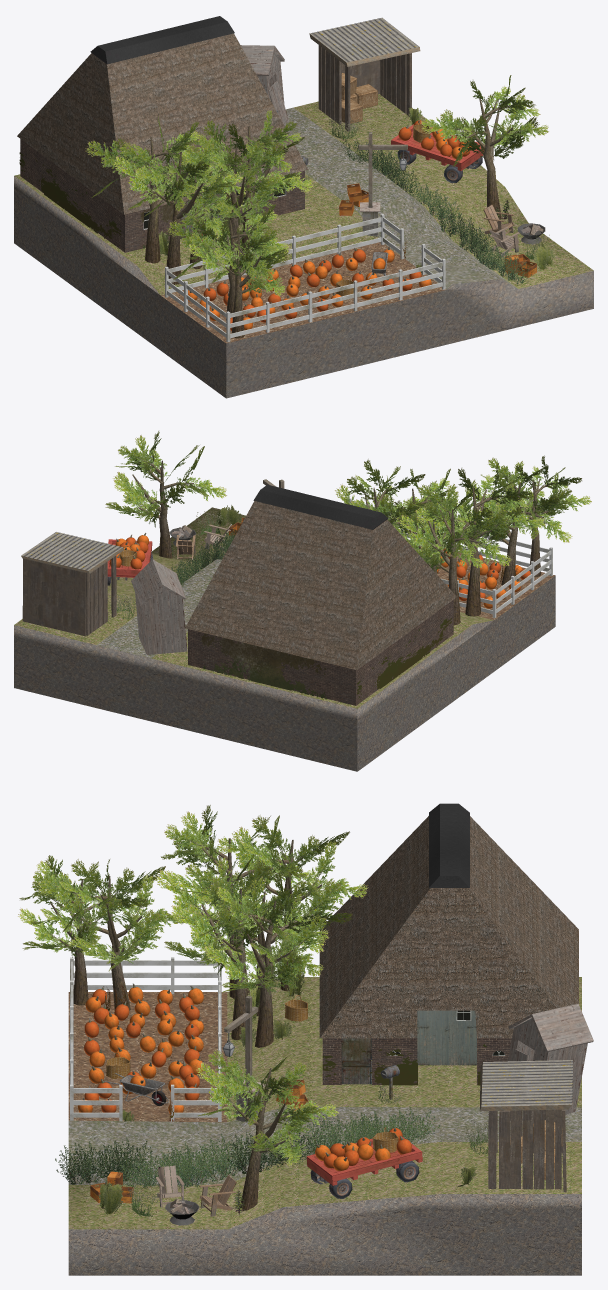
File: dae-diorama-retake-small-farm.fbx
3 renders of one model, top to bottom at view 1: azimuth 30°, elevation 25°; view 2: azimuth 150°, elevation 25°; view 3: azimuth 270°, elevation 25°, orthographic. The views are drawn at different scales.
Parts seen in each view (by area): view 1: Groundplane_Sq_15_side_GF_0, MAINHOUSE_roof_0, TREEWOOD2_grass3_0, Groundplane_Sq_15_Grass_GF_0, Groundplane_Sq_15_Path_GF_0, FENCE_Fence_0, TREEWOOD2_tree_wood_2_0, Groundplane_Sq_15_earth_GF_0, MAINHOUSE_walls_0, LEAVES2_leaves2_0, SHELTER_tree_wood_6_0, MAINHOUSE_rooftop_0 (+15 smaller); view 2: Groundplane_Sq_15_side_GF_0, MAINHOUSE_roof_0, TREEWOOD2_grass3_0, MAINHOUSE_walls_0, Groundplane_Sq_15_Grass_GF_0, TREEWOOD2_tree_wood_2_0, SHELTER_t_woodTile3_0, HOUSE_DECAL2_house_decal2_0, SHED_shed_walls_door_0, MAINHOUSE_rooftop_0, SHELTER_small_house_roof_0, FENCE_Fence_0 (+10 smaller); view 3: MAINHOUSE_roof_0, TREEWOOD2_grass3_0, Groundplane_Sq_15_side_GF_0, Groundplane_Sq_15_Grass_GF_0, Groundplane_Sq_15_Path_GF_0, Groundplane_Sq_15_earth_GF_0, LEAVES2_leaves2_0, TREEWOOD2_tree_wood_2_0, SHELTER_tree_wood_6_0, PUMPKIN1_T_Pumpkin_Unique_0, FENCE_Fence_0, MAINHOUSE_lambert16_0 (+16 smaller).
Part boxes in pixels (x1,y1,x2,y2): Groundplane_Sq_15_side_GF_0: (14, 176, 593, 398); MAINHOUSE_roof_0: (17, 33, 308, 214); TREEWOOD2_grass3_0: (85, 75, 548, 296); Groundplane_Sq_15_Grass_GF_0: (14, 94, 593, 295); Groundplane_Sq_15_Path_GF_0: (286, 107, 516, 289); FENCE_Fence_0: (165, 214, 445, 342); TREEWOOD2_tree_wood_2_0: (121, 98, 512, 338); Groundplane_Sq_15_earth_GF_0: (161, 242, 446, 343); MAINHOUSE_walls_0: (20, 139, 304, 252); LEAVES2_leaves2_0: (341, 136, 531, 284); SHELTER_tree_wood_6_0: (318, 45, 411, 131); MAINHOUSE_rooftop_0: (90, 16, 234, 64); Groundplane_Sq_15_side_GF_0: (14, 575, 555, 771); MAINHOUSE_roof_0: (185, 501, 456, 670); TREEWOOD2_grass3_0: (105, 431, 591, 571); MAINHOUSE_walls_0: (188, 600, 453, 705); Groundplane_Sq_15_Grass_GF_0: (14, 507, 493, 708); TREEWOOD2_tree_wood_2_0: (132, 460, 560, 625); SHELTER_t_woodTile3_0: (22, 558, 86, 636); HOUSE_DECAL2_house_decal2_0: (199, 633, 329, 699); SHED_shed_walls_door_0: (135, 587, 187, 654); MAINHOUSE_rooftop_0: (253, 484, 388, 529); SHELTER_small_house_roof_0: (21, 532, 122, 570); FENCE_Fence_0: (348, 498, 552, 617); MAINHOUSE_roof_0: (319, 816, 578, 1038); TREEWOOD2_grass3_0: (18, 805, 368, 1166); Groundplane_Sq_15_side_GF_0: (68, 1194, 581, 1275); Groundplane_Sq_15_Grass_GF_0: (68, 977, 581, 1229); Groundplane_Sq_15_Path_GF_0: (68, 1106, 581, 1184); Groundplane_Sq_15_earth_GF_0: (68, 992, 227, 1122); LEAVES2_leaves2_0: (55, 1107, 439, 1189); TREEWOOD2_tree_wood_2_0: (50, 838, 322, 1211); SHELTER_tree_wood_6_0: (488, 1109, 562, 1189); PUMPKIN1_T_Pumpkin_Unique_0: (78, 983, 390, 1170); FENCE_Fence_0: (70, 957, 221, 1121); MAINHOUSE_lambert16_0: (341, 1010, 476, 1084).
Size of the model in its own units: 1798 by 885 by 1695.
